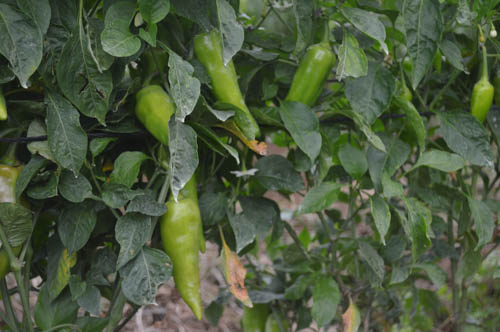ChiliPepper: (199, 32, 263, 140), (161, 197, 200, 315), (167, 156, 211, 252), (287, 44, 334, 124), (135, 87, 188, 155), (468, 84, 491, 132)
